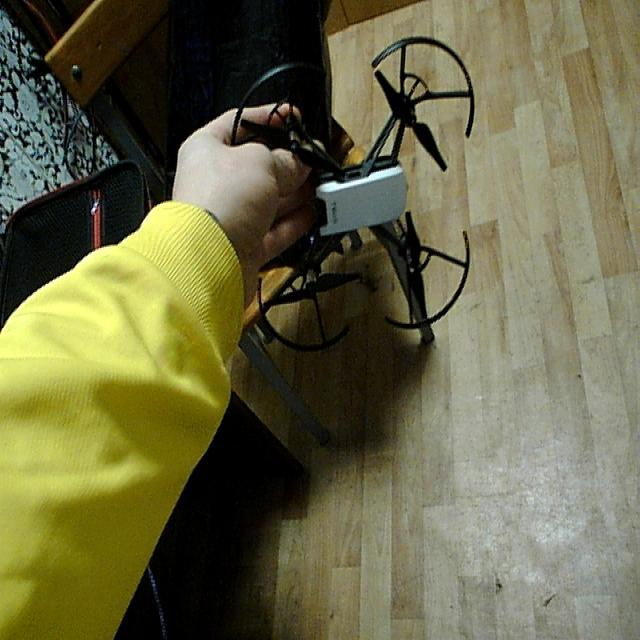drone: (218, 29, 488, 343)
